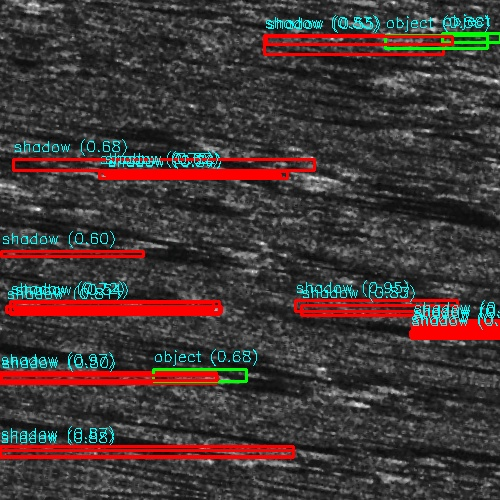rock: (3, 300, 86, 313), (432, 329, 500, 338), (36, 39, 109, 46), (176, 162, 249, 169), (289, 146, 342, 155), (251, 306, 304, 313), (181, 451, 244, 456), (327, 252, 380, 257), (246, 376, 299, 381), (8, 126, 49, 129), (203, 175, 234, 178)
shadow: (45, 300, 201, 313), (213, 162, 490, 169), (278, 306, 500, 313), (213, 451, 500, 456), (273, 376, 500, 381), (73, 39, 233, 46), (316, 146, 429, 155), (0, 185, 120, 192), (0, 298, 87, 307), (0, 327, 86, 336), (354, 252, 500, 257), (219, 175, 385, 178), (0, 414, 57, 421), (29, 126, 134, 129), (479, 329, 500, 338)
